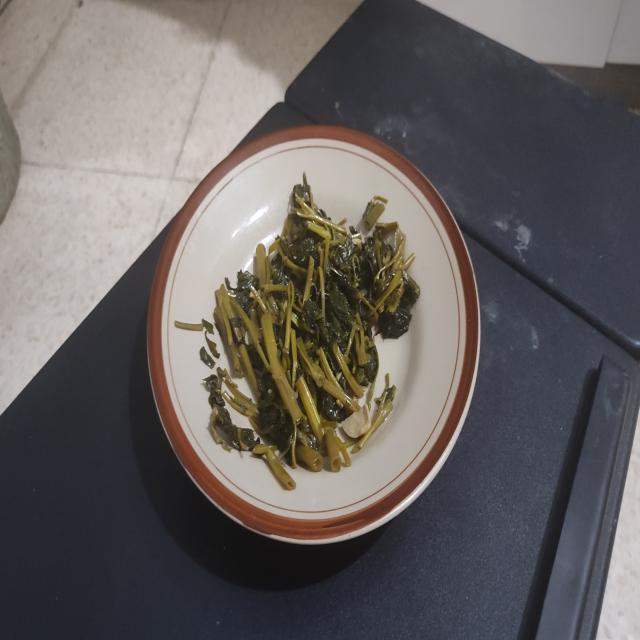tumis_kangkung: (213, 174, 420, 472)
